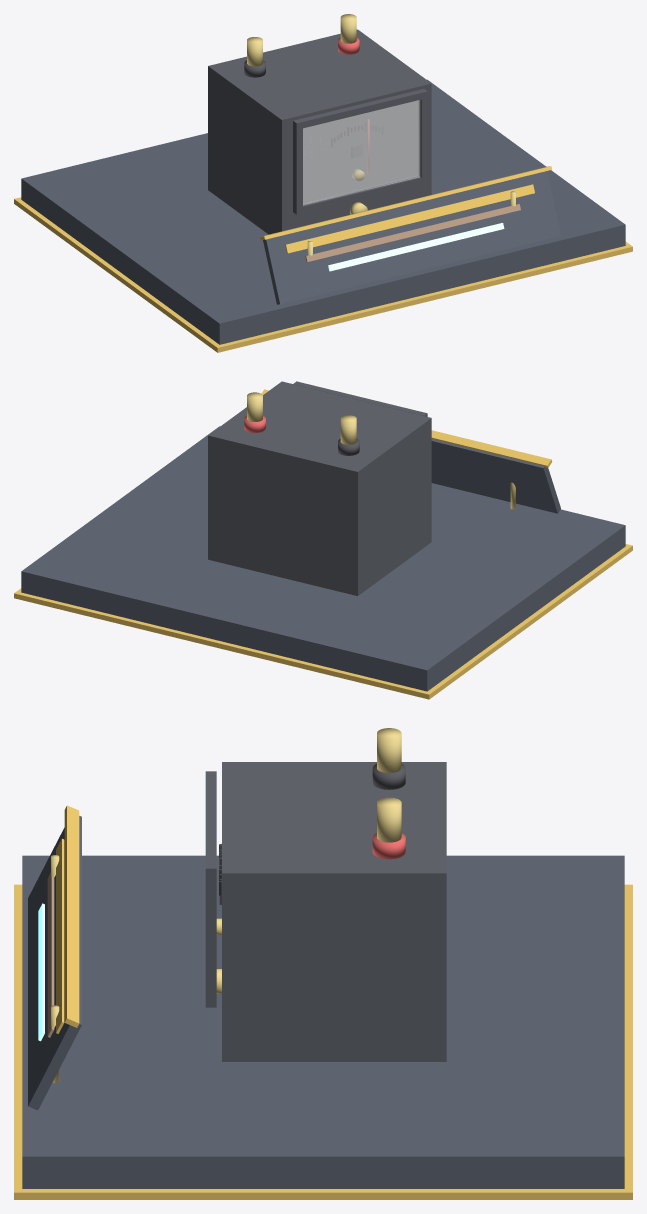
Rendered from voltmeter.glb.
3 renders of one model, top to bottom at view 1: azimuth 30°, elevation 25°; view 2: azimuth 150°, elevation 25°; view 3: azimuth 270°, elevation 25°, orthographic. The views are drawn at different scales.
Visible parts, largest first — view 1: volt_full_plinth, volt_full_casing, volt_sec_plaque_face, volt_full_glass, volt_sec_glass, volt_full_plinth_rim, volt_sec_title_bar, volt_sec_sub1, volt_full_frame_top, volt_sec_plaque_trim, volt_full_frame_bot, volt_sec_sub2 (+4 smaller); view 2: volt_full_plinth, volt_full_casing, volt_sec_plaque_face, volt_full_plinth_rim, volt_sec_plaque_trim, volt_full_frame_top, volt_sec_case_back, volt_full_post_neg, volt_full_post_pos, volt_sec_case_base; view 3: volt_full_plinth, volt_full_casing, volt_full_plinth_rim, volt_sec_plaque_face, volt_sec_plaque_trim, volt_sec_case_base, volt_sec_case_back, volt_sec_title_bar, volt_full_frame_r, volt_full_frame_top, volt_sec_sub1, volt_full_post_pos (+2 smaller).
Boxes of the visible parts, left/top/right/bottom form: volt_full_plinth: left=21, top=79, right=625, bottom=344; volt_full_casing: left=208, top=30, right=431, bottom=234; volt_sec_plaque_face: left=263, top=171, right=560, bottom=304; volt_full_glass: left=303, top=100, right=419, bottom=205; volt_sec_glass: left=303, top=100, right=419, bottom=204; volt_full_plinth_rim: left=14, top=197, right=632, bottom=352; volt_sec_title_bar: left=285, top=184, right=534, bottom=253; volt_sec_sub1: left=305, top=204, right=520, bottom=261; volt_full_frame_top: left=293, top=89, right=427, bottom=129; volt_sec_plaque_trim: left=260, top=166, right=552, bottom=240; volt_full_frame_bot: left=293, top=175, right=427, bottom=214; volt_sec_sub2: left=328, top=223, right=504, bottom=271; volt_full_plinth: left=21, top=426, right=625, bottom=691; volt_full_casing: left=208, top=381, right=431, bottom=595; volt_sec_plaque_face: left=431, top=439, right=560, bottom=513; volt_full_plinth_rim: left=14, top=544, right=632, bottom=699; volt_sec_plaque_trim: left=261, top=389, right=552, bottom=467; volt_full_frame_top: left=293, top=381, right=427, bottom=416; volt_sec_case_back: left=222, top=438, right=362, bottom=532; volt_full_post_neg: left=340, top=415, right=356, bottom=444; volt_full_post_pos: left=247, top=392, right=262, bottom=421; volt_sec_case_base: left=208, top=533, right=430, bottom=595; volt_full_plinth: left=22, top=855, right=624, bottom=1188; volt_full_casing: left=222, top=762, right=446, bottom=1060; volt_full_plinth_rim: left=14, top=884, right=632, bottom=1199; volt_sec_plaque_face: left=28, top=816, right=81, bottom=1110; volt_sec_plaque_trim: left=64, top=805, right=79, bottom=1027; volt_sec_case_base: left=222, top=1047, right=446, bottom=1061; volt_sec_case_back: left=430, top=762, right=446, bottom=1061; volt_sec_title_bar: left=56, top=838, right=64, bottom=1033; volt_full_frame_r: left=205, top=878, right=216, bottom=997; volt_full_frame_top: left=205, top=771, right=216, bottom=878; volt_sec_sub1: left=47, top=872, right=54, bottom=1037; volt_full_post_pos: left=377, top=797, right=401, bottom=842.
Bounding box in the file's own units: 0.266 × 0.112 × 0.226.
